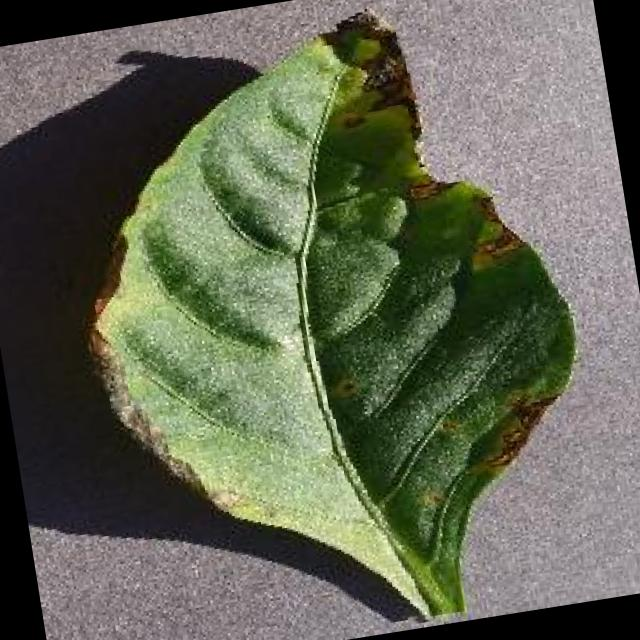Chilli_Bacterial_Spot: (40, 0, 621, 640), (399, 160, 529, 284), (320, 1, 418, 115), (470, 414, 536, 477), (462, 214, 529, 274), (354, 46, 409, 104), (340, 28, 386, 70), (412, 480, 448, 515), (431, 409, 465, 444), (326, 372, 361, 404), (334, 106, 368, 134)
